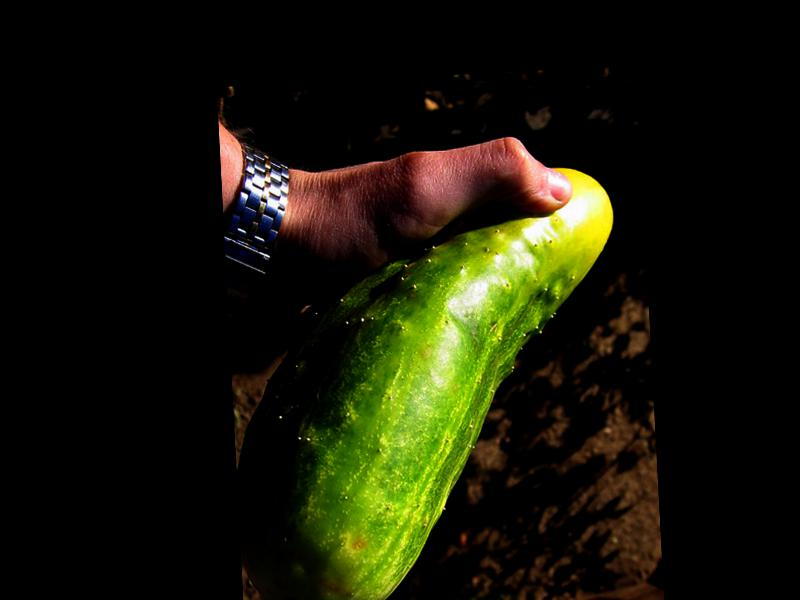Cucumber: (221, 164, 633, 600)
